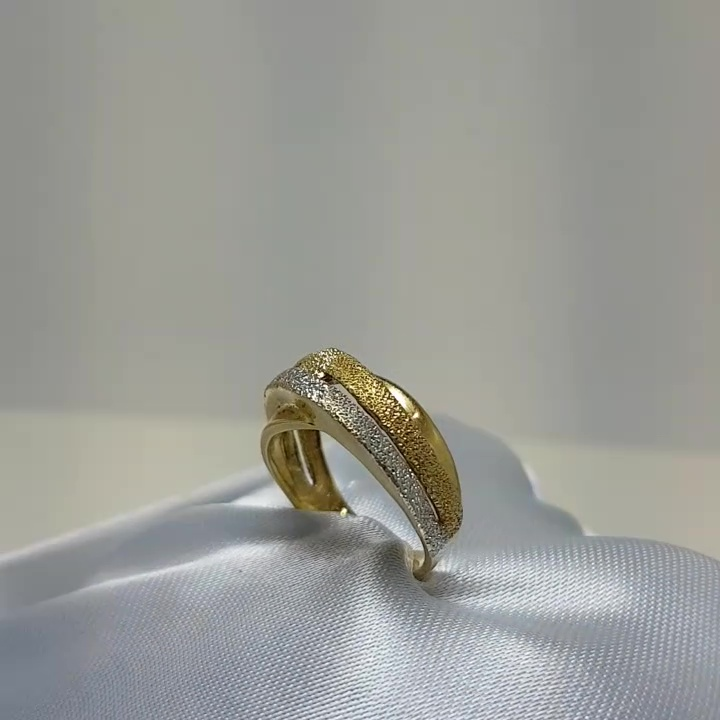Ring 5: (249, 346, 473, 583)
